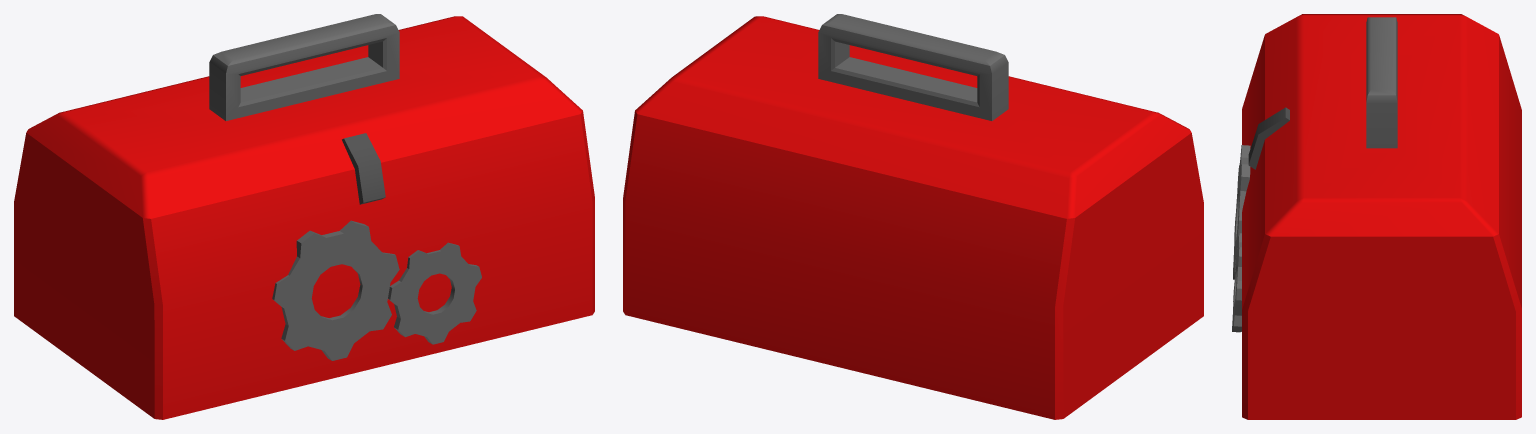
The model's file is Toolbox.fbx.
3 renders of one model, left to right at view 1: azimuth 30°, elevation 25°; view 2: azimuth 150°, elevation 25°; view 3: azimuth 270°, elevation 25°, orthographic. The views are drawn at different scales.
Visible parts, largest first — view 1: polySurface3; view 2: polySurface3; view 3: polySurface3.
Boxes of the visible parts, box(x1,y1,x2,y2) form: polySurface3: box(14, 14, 594, 419); polySurface3: box(623, 14, 1203, 419); polySurface3: box(1232, 14, 1521, 419).
Bounding box in the file's own units: 19.71 × 11.84 × 11.78.
